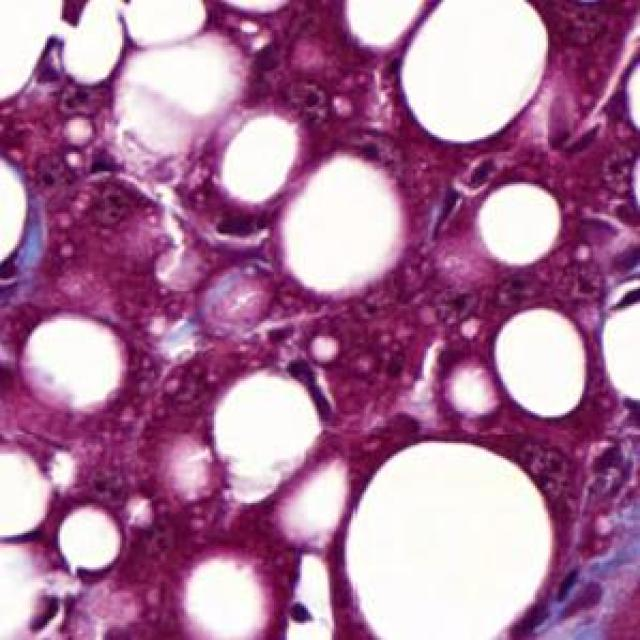steatosis: (349, 443, 554, 638), (398, 0, 550, 146), (490, 308, 589, 422), (475, 184, 563, 270)
